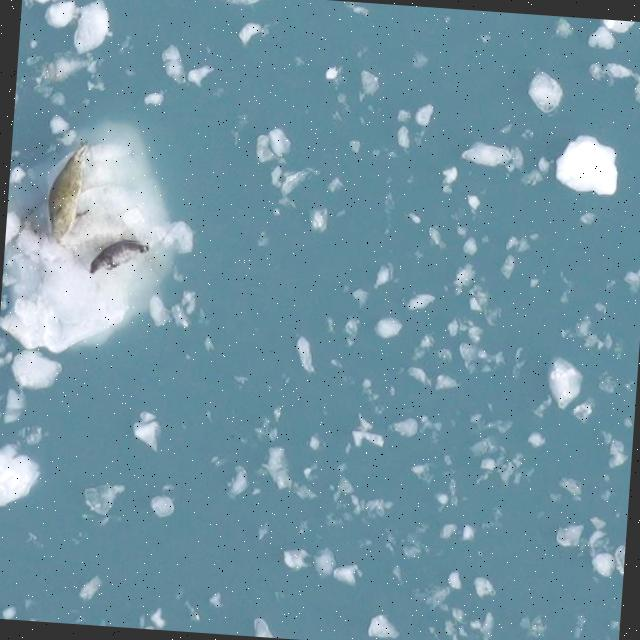seal: (48, 143, 86, 244), (89, 240, 149, 273)
